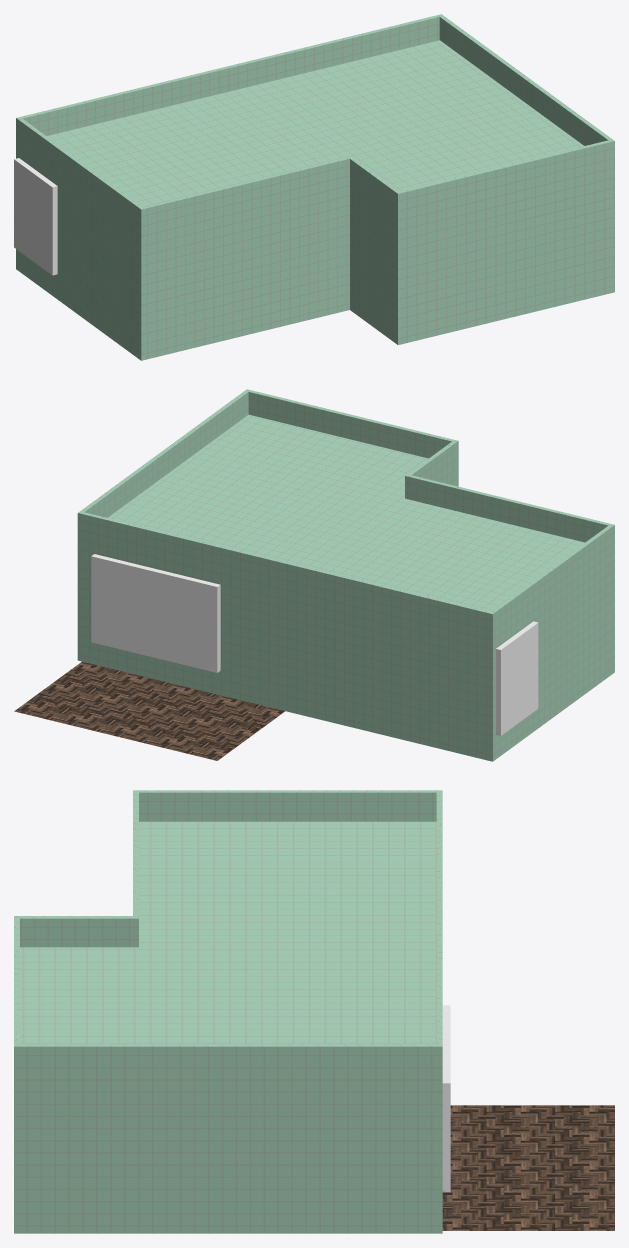
Rendered from blue_tiles.fbx.
3 views of the same model, one above another, from view 1: azimuth 30°, elevation 25°; view 2: azimuth 150°, elevation 25°; view 3: azimuth 270°, elevation 25° (orthographic). The views are drawn at different scales.
Visible parts, largest first — view 1: Room, Ceiling, CTRL_Hole.001; view 2: Room, Ceiling, Floor.002, CTRL_Hole, CTRL_Hole.001; view 3: Room, Ceiling, Floor.002, CTRL_Hole.
Part boxes in pixels (box(x1,y1,x2,y2)): Room: box(16, 14, 614, 360); Ceiling: box(47, 40, 583, 206); CTRL_Hole.001: box(14, 158, 57, 275); Room: box(77, 389, 614, 761); Ceiling: box(108, 414, 584, 611); Floor.002: box(14, 661, 285, 760); CTRL_Hole: box(91, 554, 220, 672); CTRL_Hole.001: box(496, 621, 538, 735); Room: box(14, 790, 442, 1233); Ceiling: box(20, 821, 436, 1044); Floor.002: box(442, 1105, 614, 1230); CTRL_Hole: box(442, 1005, 450, 1192).
Bounding box in the file's own units: 1032 × 347 × 1010.
